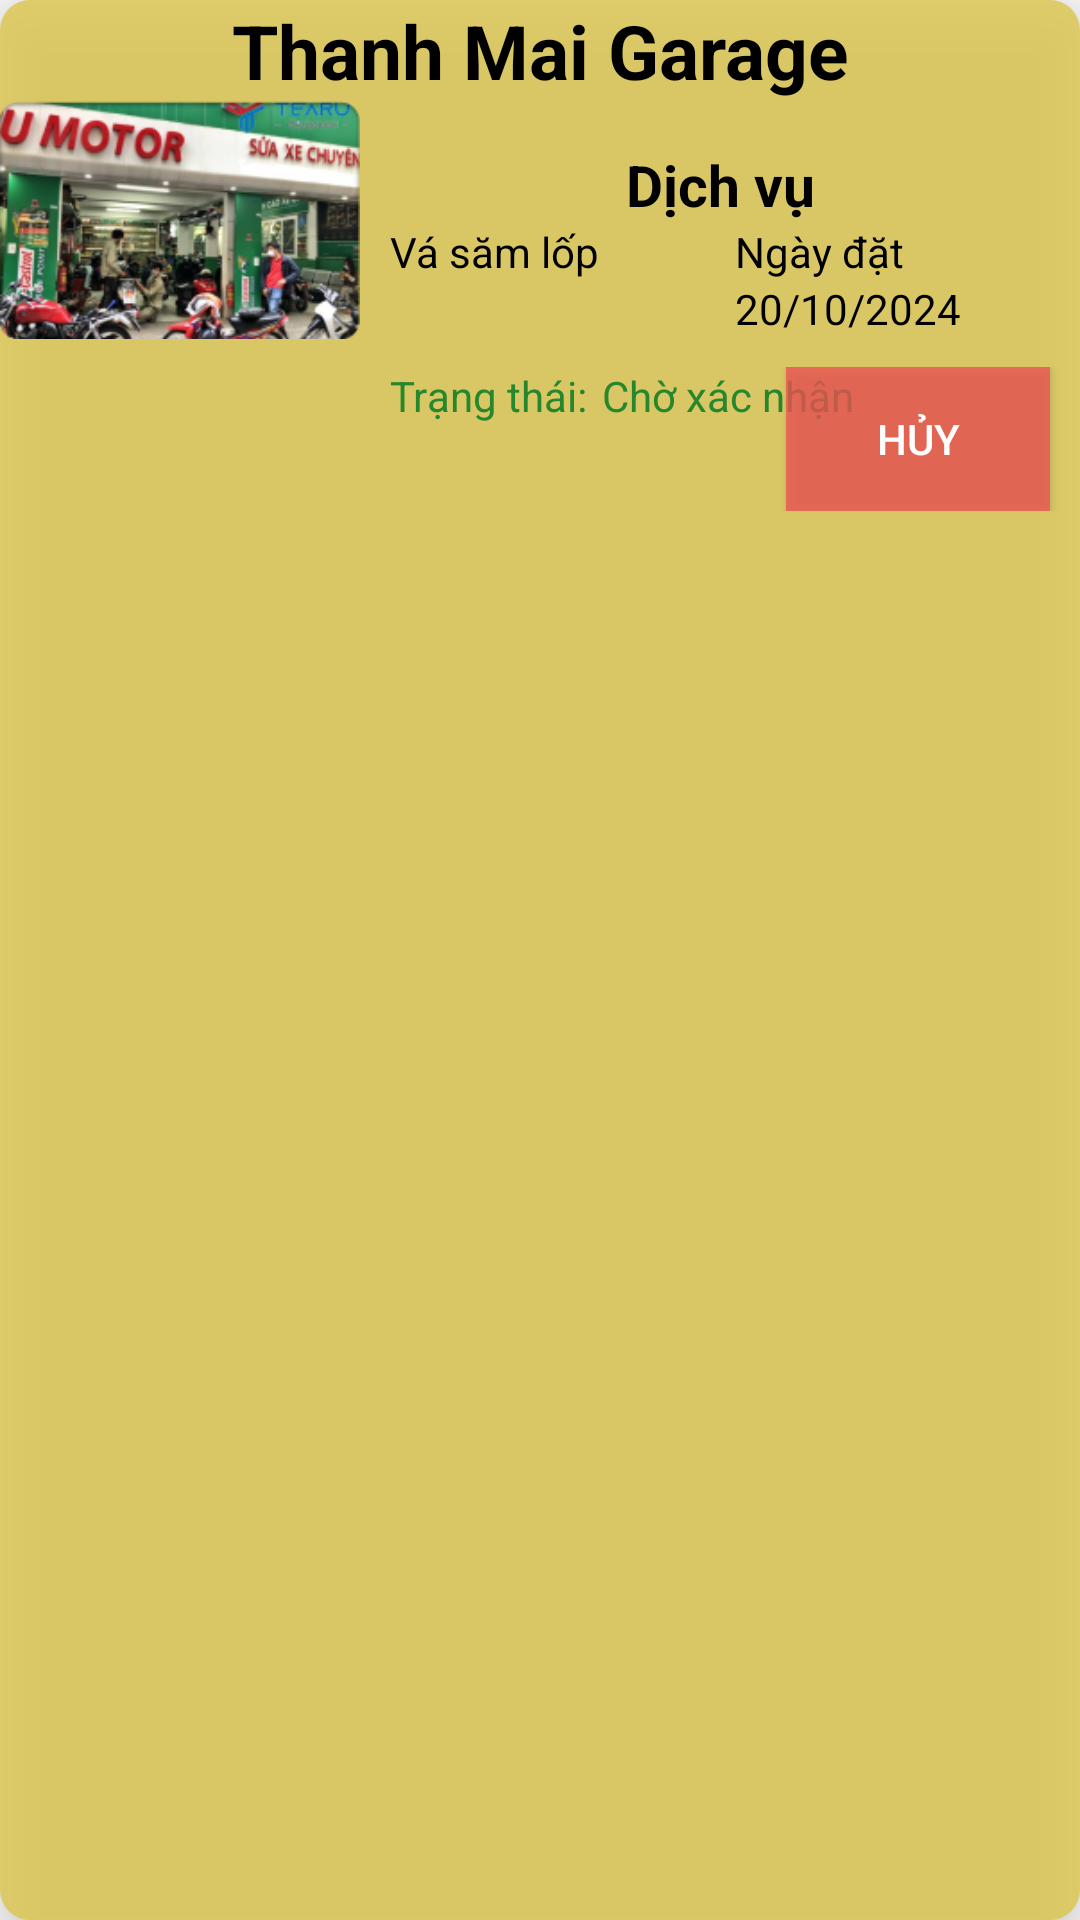

Named icons in this screenshot (1080x1920) and their bounding boxes, (left=x1, top=y1, right=x2, bottom=y2):
cuahang: (left=0, top=101, right=360, bottom=339)
